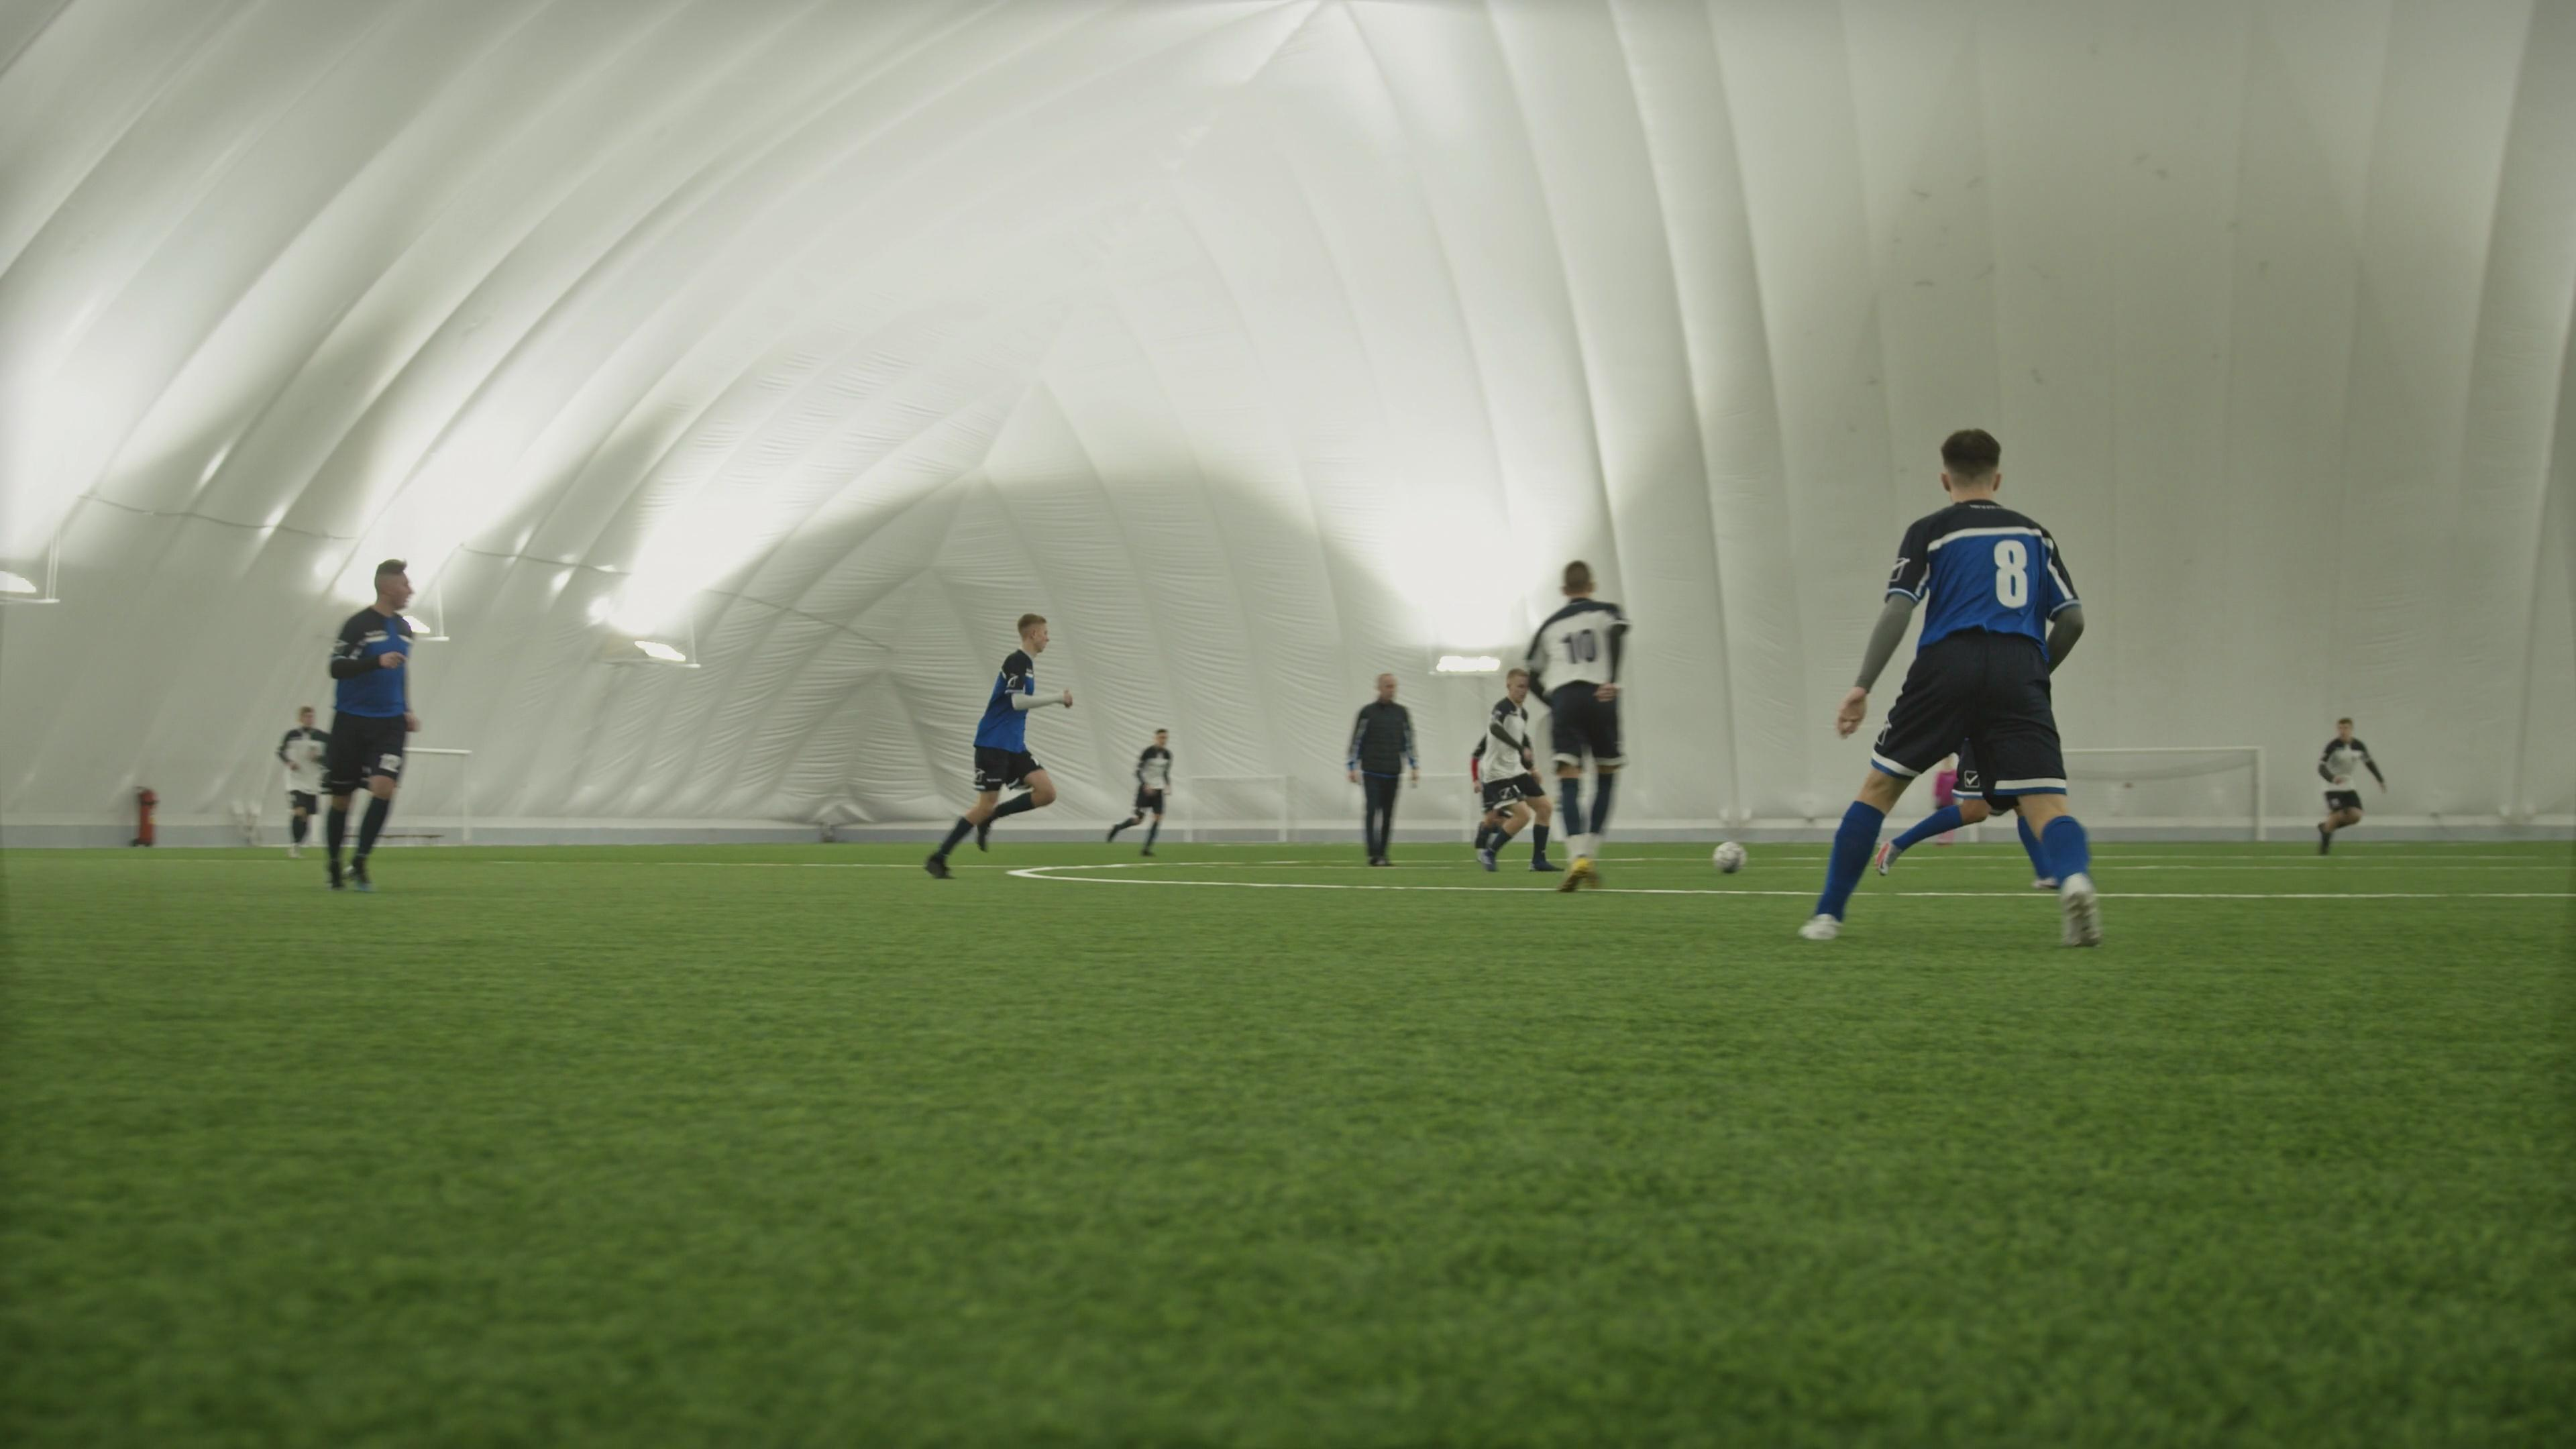other: (1345, 672, 1419, 867)
team1: (1798, 421, 2105, 950), (924, 610, 1062, 879), (317, 559, 423, 892)
team1gk: (1934, 755, 1957, 842)
team2: (1523, 559, 1631, 883), (1467, 671, 1559, 874), (2314, 709, 2388, 856), (1100, 725, 1175, 858), (272, 701, 324, 856)
